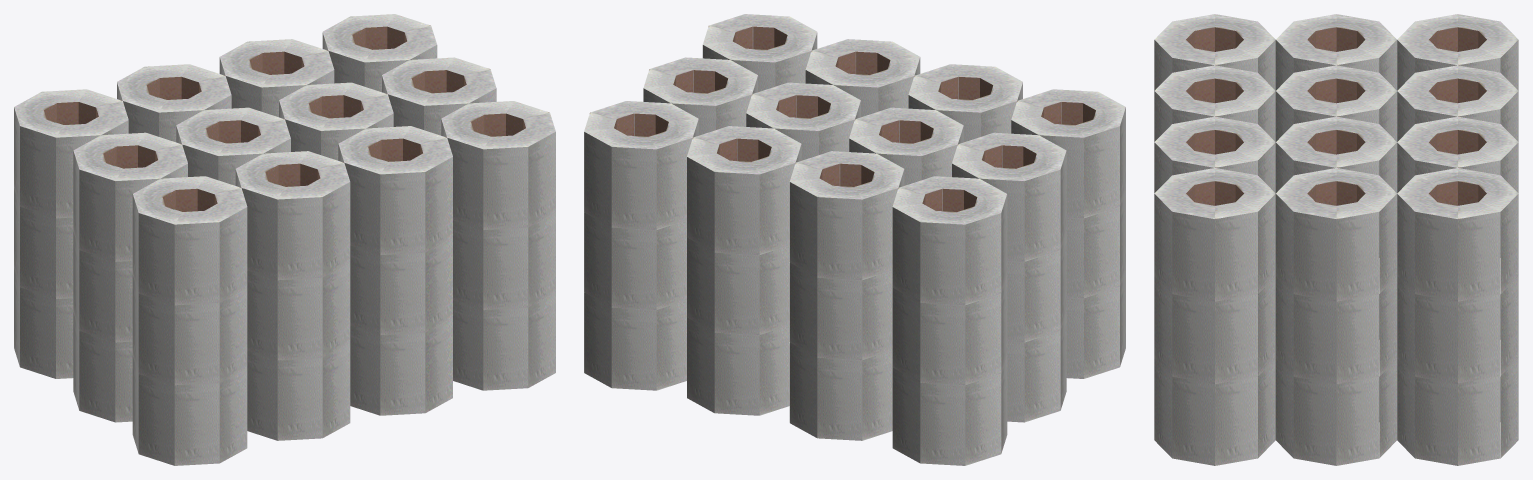
Rendered from Toilet_Roll_Pack.obj.
3 renders of one model, left to right at view 1: azimuth 30°, elevation 25°; view 2: azimuth 150°, elevation 25°; view 3: azimuth 270°, elevation 25°, orthographic. The views are drawn at different scales.
Parts seen in each view (by area): view 1: Toilet_Roll_Pack; view 2: Toilet_Roll_Pack; view 3: Toilet_Roll_Pack.
Part boxes in pixels (x1,y1,x2,y2): Toilet_Roll_Pack: [14, 14, 555, 465]; Toilet_Roll_Pack: [584, 14, 1125, 465]; Toilet_Roll_Pack: [1154, 14, 1518, 465].
Size of the model in its own units: 1.45 by 0.8151 by 1.09.
